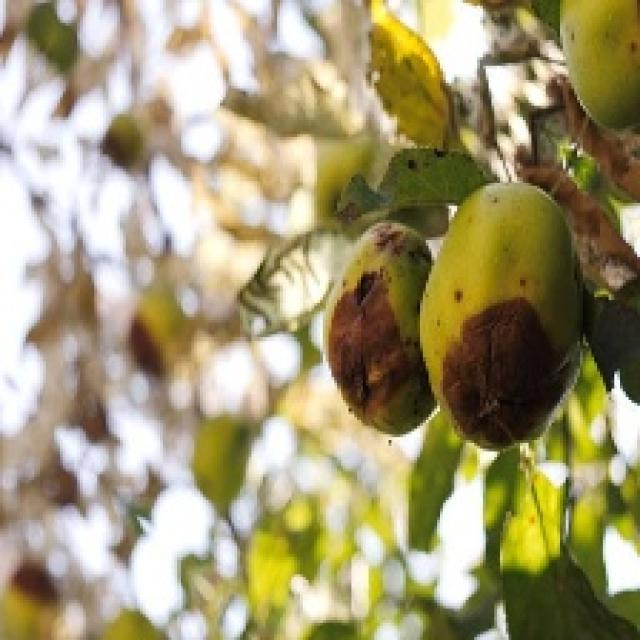rotten_apple: (425, 186, 583, 438), (329, 222, 428, 430)
